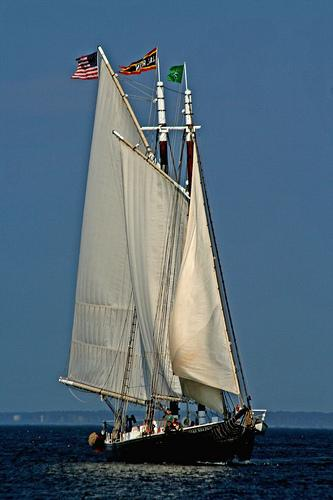Ship: (59, 46, 266, 465)
